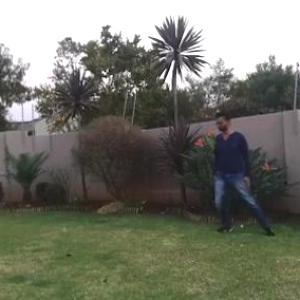follow: (212, 109, 248, 233)
